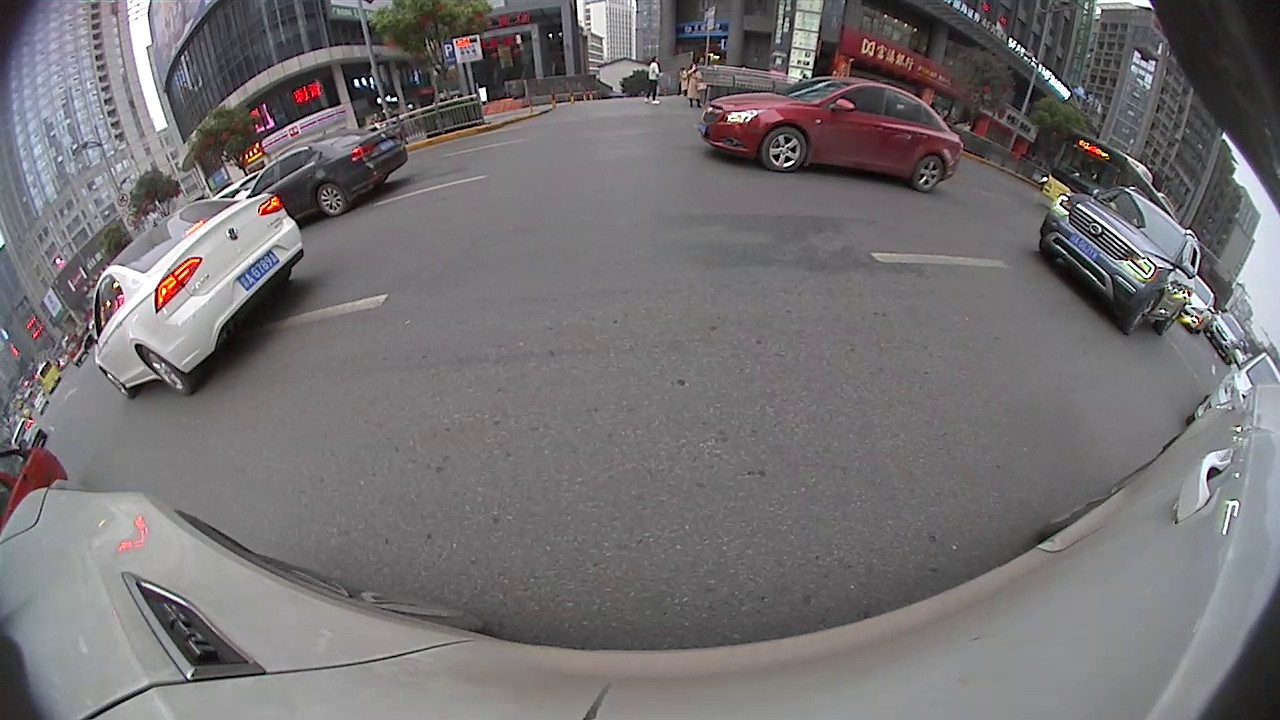bus: (1039, 125, 1180, 221)
car: (87, 194, 307, 399), (698, 75, 965, 195), (1036, 183, 1205, 342), (233, 129, 408, 218), (1184, 347, 1279, 421)
front: (761, 127, 809, 174), (1125, 287, 1162, 336), (100, 368, 135, 400)
rear: (139, 345, 197, 399), (911, 153, 946, 196), (315, 182, 347, 218)
